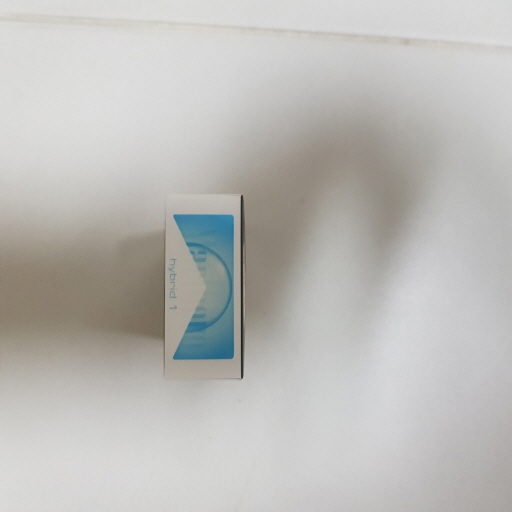Paper_0: (139, 185, 268, 389)
